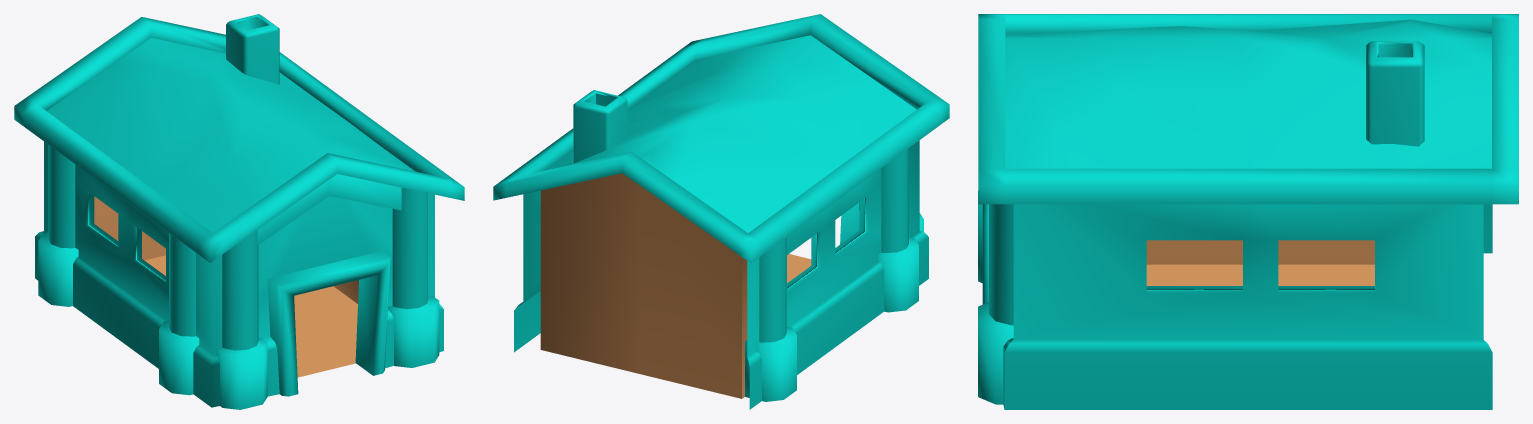
The model's file is SM_PlayerHouse_Intact.fbx.
3 views of the same model, side by side, from view 1: azimuth 30°, elevation 25°; view 2: azimuth 150°, elevation 25°; view 3: azimuth 270°, elevation 25° (orthographic). The views are drawn at different scales.
Parts seen in each view (by area): view 1: SM_HouseIntact_Merged; view 2: SM_HouseIntact_Merged; view 3: SM_HouseIntact_Merged.
Boxes of the visible parts, <box> form: SM_HouseIntact_Merged: <box>14,14,464,409</box>; SM_HouseIntact_Merged: <box>493,14,949,409</box>; SM_HouseIntact_Merged: <box>978,14,1518,409</box>.
Size of the model in its own units: 140 by 123 by 184.
